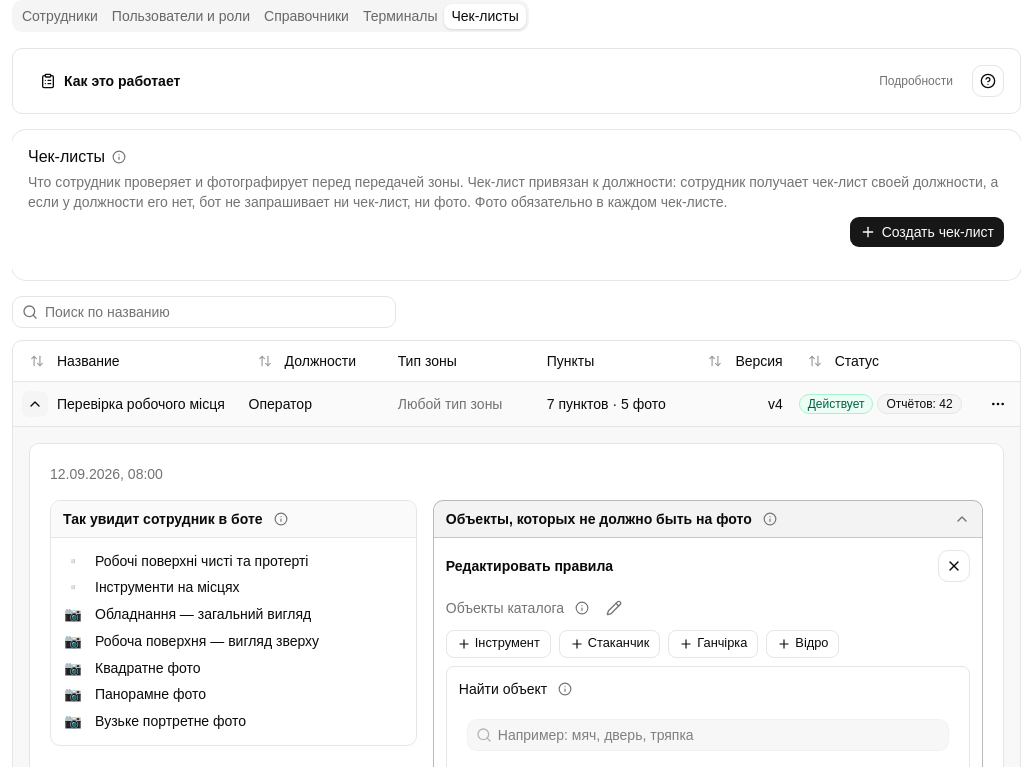
Test: opens rules inside the catalog for current or historical selection 10000000-0000-4000-8000-000000000001
This screenshot has width=1036, height=767.
Expected: the heading "Редактировать правила" is shown, [446,556,613,576]
Expected: the tab "Чек-листы" is shown, [444,4,526,28]
Click the text "Перевірка робочого місця": x=141, y=404 [57,394,225,414]
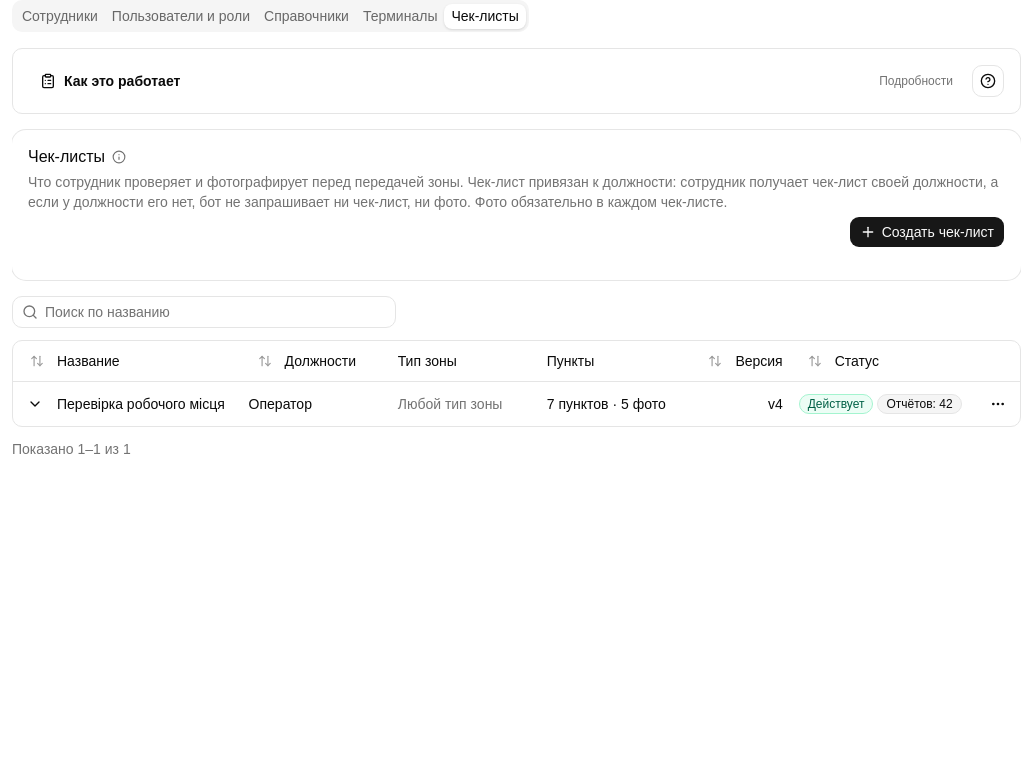
Click the text "Перевірка робочого місця": x=141, y=404 [57,394,225,414]
(page scrolled)
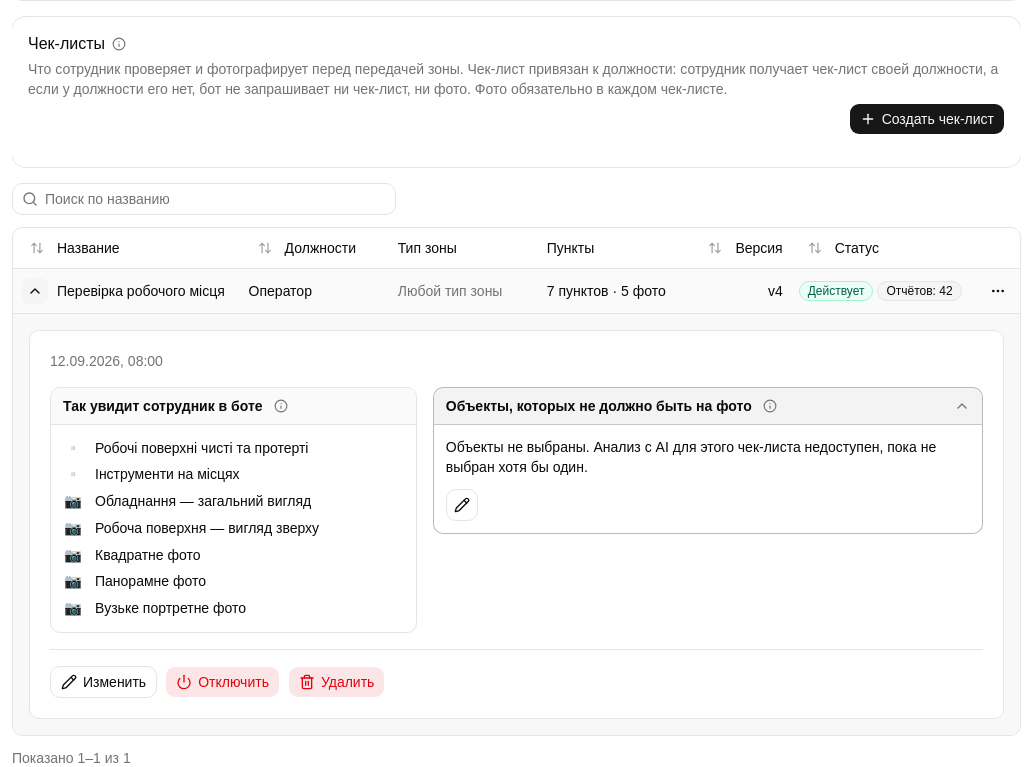
Expected: the heading "Редактировать правила" is not shown
Result: the element with test id "checklist-detail" is shown at [50,350,983,698]
